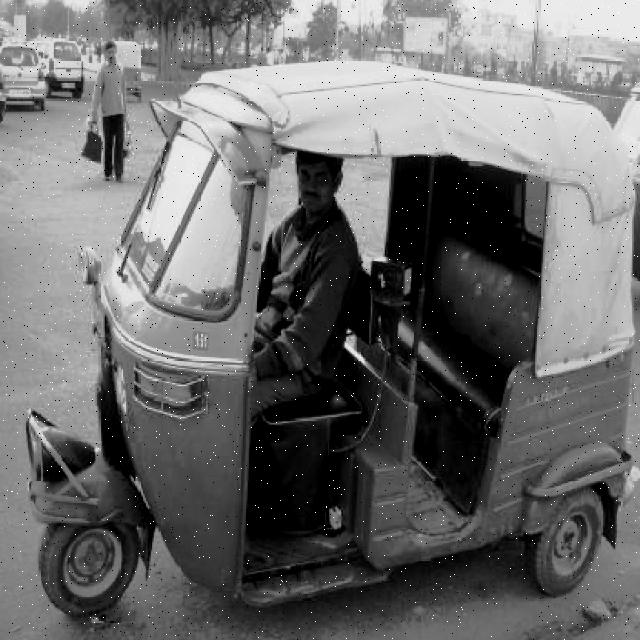Auto-Rickshaw: (20, 68, 640, 619)
